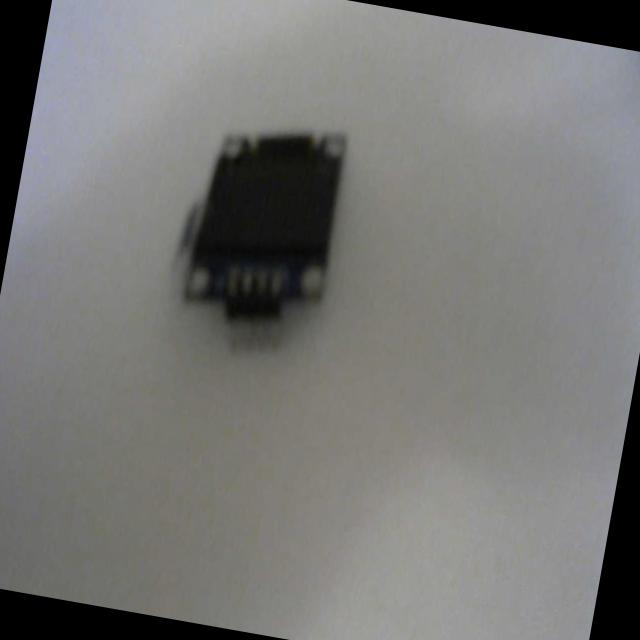oled: (157, 102, 359, 384)
